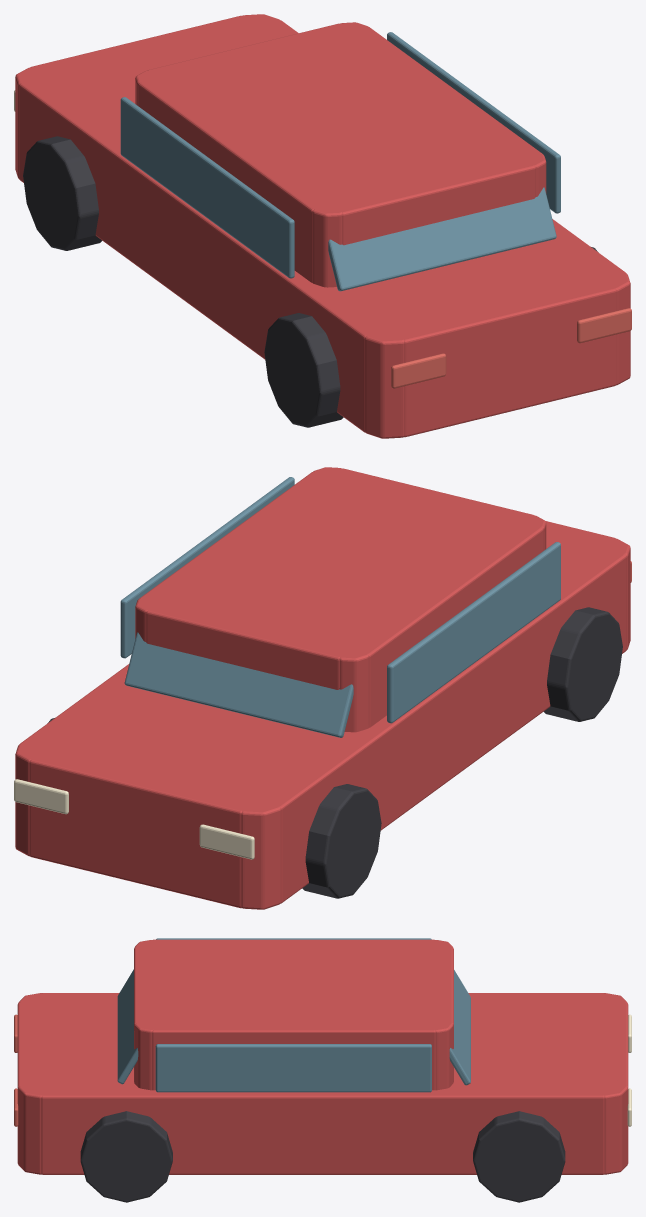
The model's file is CarRed.fbx.
The picture shows the model from 3 angles, top to bottom: view 1: azimuth 30°, elevation 25°; view 2: azimuth 150°, elevation 25°; view 3: azimuth 270°, elevation 25°; orthographic projection. The views are drawn at different scales.
Parts seen in each view (by area): view 1: CarRed; view 2: CarRed; view 3: CarRed.
Boxes of the visible parts, x1,y1,x2,y2 form: CarRed: (14, 14, 631, 438); CarRed: (14, 467, 631, 909); CarRed: (14, 938, 631, 1202).
Bounding box in the file's own units: 196 × 120 × 425.
